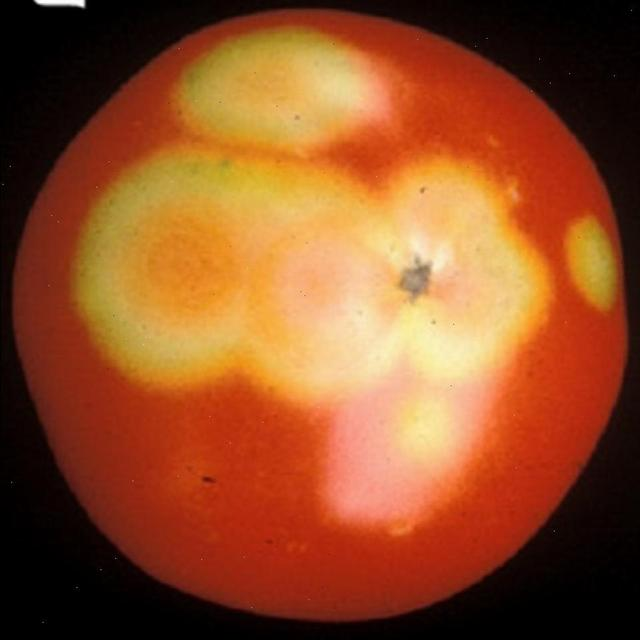Spotted wilt Virus Fruit: (0, 108, 40, 422)
